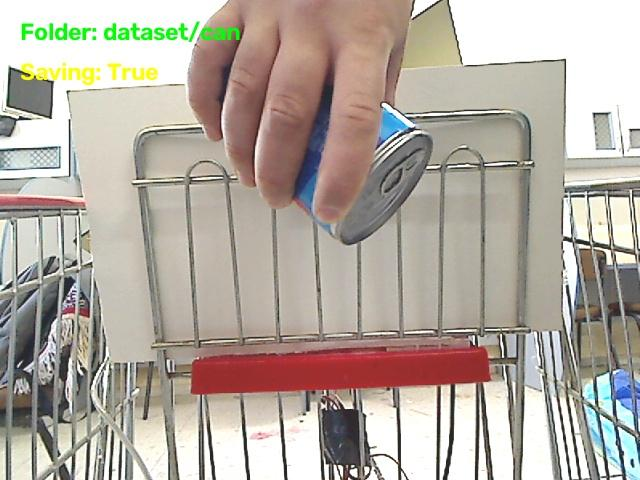can: (314, 104, 430, 244), (295, 90, 329, 214)
